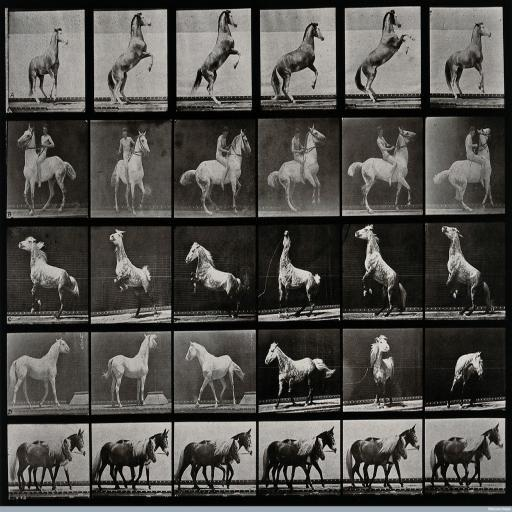horse: (346, 124, 418, 214), (180, 128, 253, 216), (354, 10, 416, 104), (16, 122, 76, 216), (430, 127, 494, 213), (268, 123, 328, 214), (18, 236, 82, 320), (352, 222, 408, 318), (189, 9, 242, 106), (440, 226, 496, 316), (264, 340, 336, 408), (184, 338, 248, 412), (108, 228, 160, 319), (106, 10, 154, 105), (8, 337, 72, 408), (102, 332, 160, 410), (184, 242, 242, 320), (272, 19, 325, 103), (442, 19, 494, 100), (276, 230, 322, 318), (92, 434, 158, 492), (110, 126, 152, 216), (173, 436, 242, 490), (10, 436, 74, 494), (260, 434, 326, 490), (28, 28, 70, 106), (429, 434, 492, 486), (348, 433, 408, 487), (446, 350, 484, 409), (369, 332, 396, 409)
